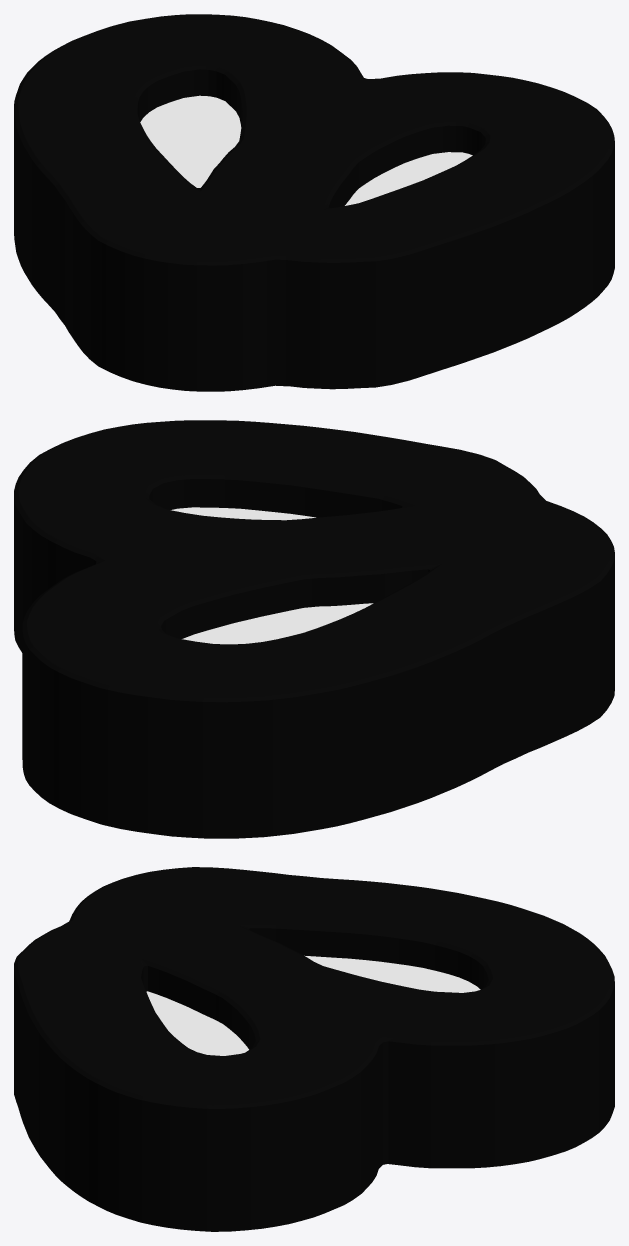
The model's file is Hair.glb.
3 views of the same model, one above another, from view 1: azimuth 30°, elevation 25°; view 2: azimuth 150°, elevation 25°; view 3: azimuth 270°, elevation 25° (orthographic). The views are drawn at different scales.
Parts seen in each view (by area): view 1: Plane.001; view 2: Plane.001; view 3: Plane.001.
Part boxes in pixels (x1,y1,x2,y2): Plane.001: (14, 14, 614, 391); Plane.001: (14, 420, 614, 838); Plane.001: (14, 867, 614, 1231).
Size of the model in its own units: 0.8177 by 0.2 by 0.8594.
Materials: 1 (1 with a texture image).
